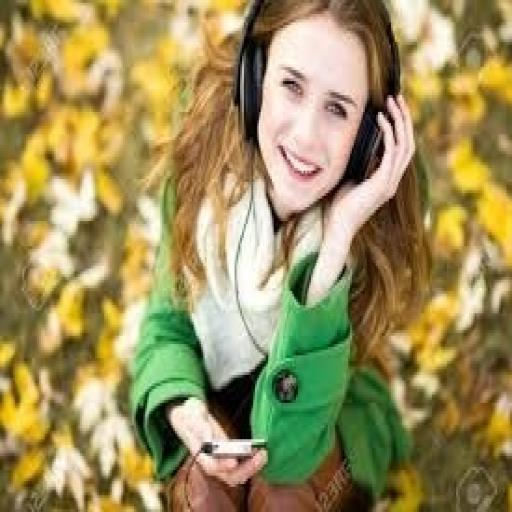listening_to_music: (128, 0, 432, 509)
